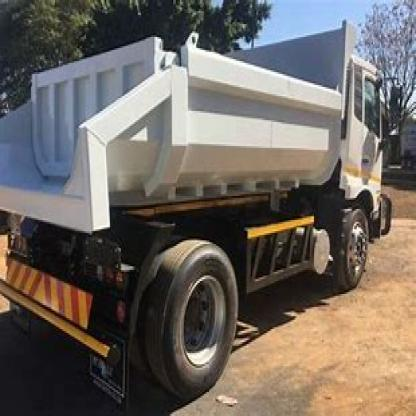dump_truck: (5, 22, 400, 392)
